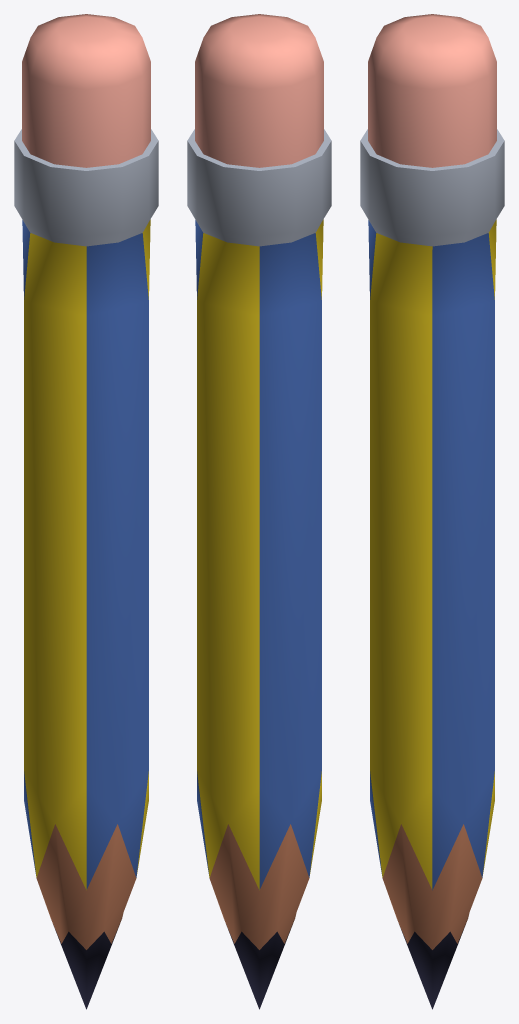
The model's file is kalem_FBX.FBX.
The picture shows the model from 3 angles, left to right: view 1: azimuth 30°, elevation 25°; view 2: azimuth 150°, elevation 25°; view 3: azimuth 270°, elevation 25°; orthographic projection.
Visible parts, largest first — view 1: Cylinder02; view 2: Cylinder02; view 3: Cylinder02.
Boxes of the visible parts, <box> form: Cylinder02: <box>14,14,158,1009</box>; Cylinder02: <box>187,14,331,1009</box>; Cylinder02: <box>360,14,504,1009</box>.
Bounding box in the file's own units: 20 × 150 × 20.
